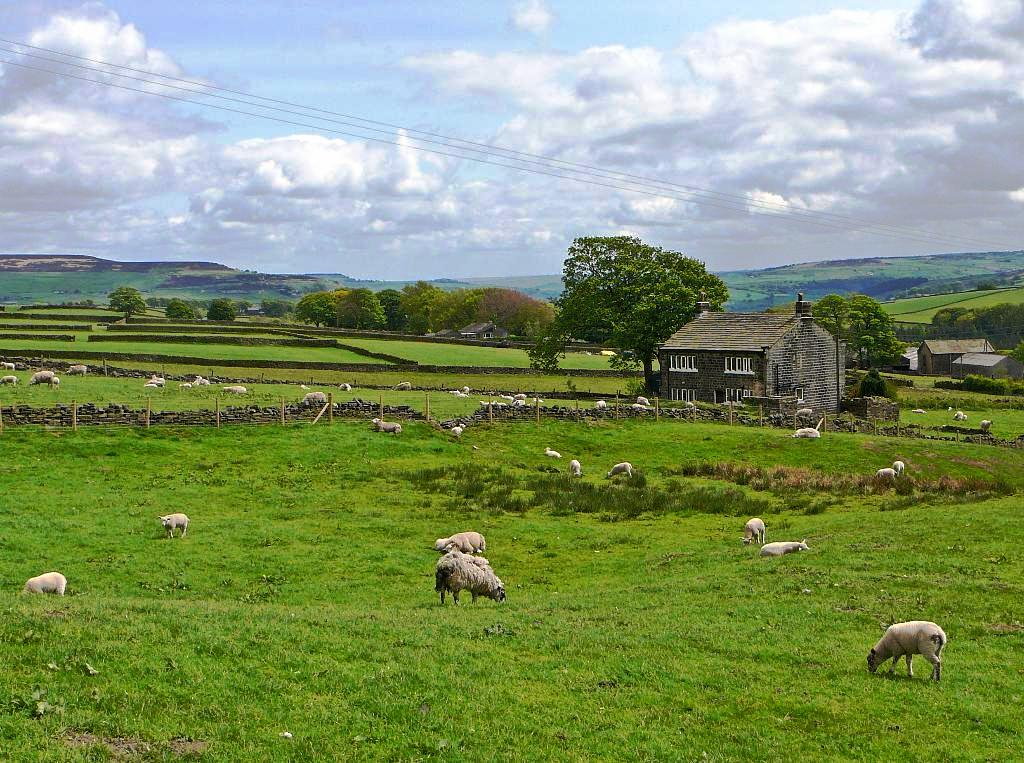Sheep: (868, 613, 956, 690), (436, 556, 508, 610), (19, 569, 75, 603), (154, 509, 193, 544), (436, 532, 484, 556), (758, 539, 805, 559), (740, 515, 768, 546), (369, 416, 404, 437), (26, 370, 57, 389), (602, 461, 636, 478), (299, 389, 329, 404), (64, 365, 91, 377), (569, 459, 584, 477), (543, 445, 561, 459), (0, 375, 20, 386), (452, 422, 466, 435), (339, 380, 353, 392), (875, 470, 895, 478), (891, 462, 904, 473), (54, 378, 62, 384)
